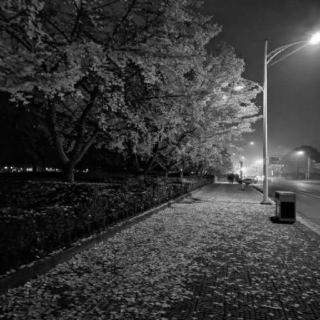other: (121, 37, 248, 157), (228, 153, 278, 181)
